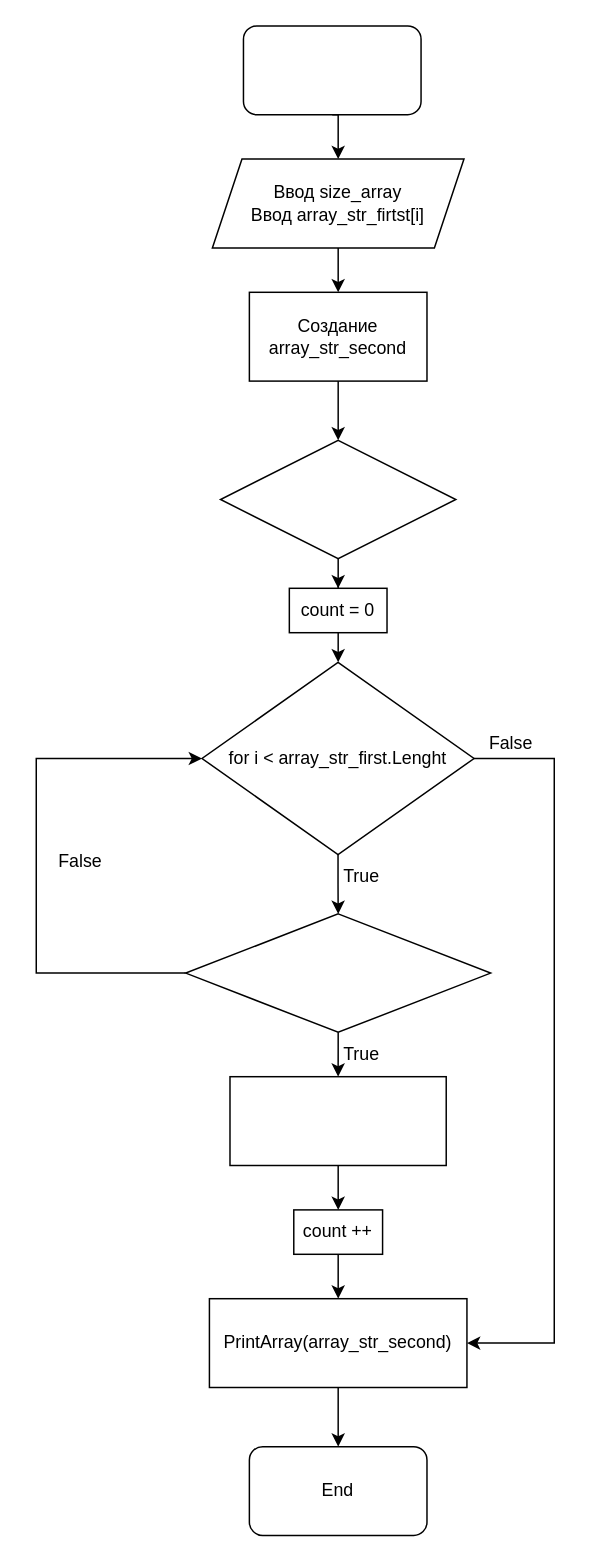
The diagram is 592 pixels wide and 1561 high, and some of its shapes have lost their labels. Here are the shapes that lost their labels. From the top down, the centre of each, then its label:
(x=331, y=69): Start
(x=337, y=499): ScanArrayStr
(x=337, y=972): if array_str_first[i].Lenght <=3
(x=337, y=1120): array_str_second[count] = array_str_first[i]
